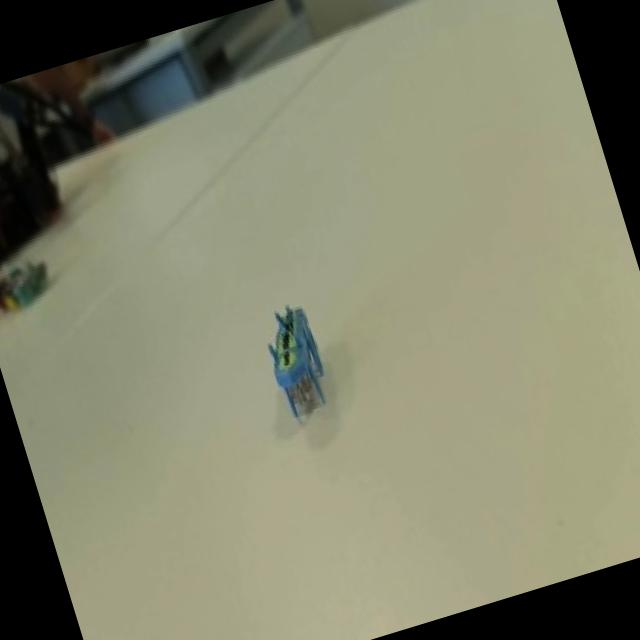3_NanoBug_Celeste: (224, 262, 368, 469)
